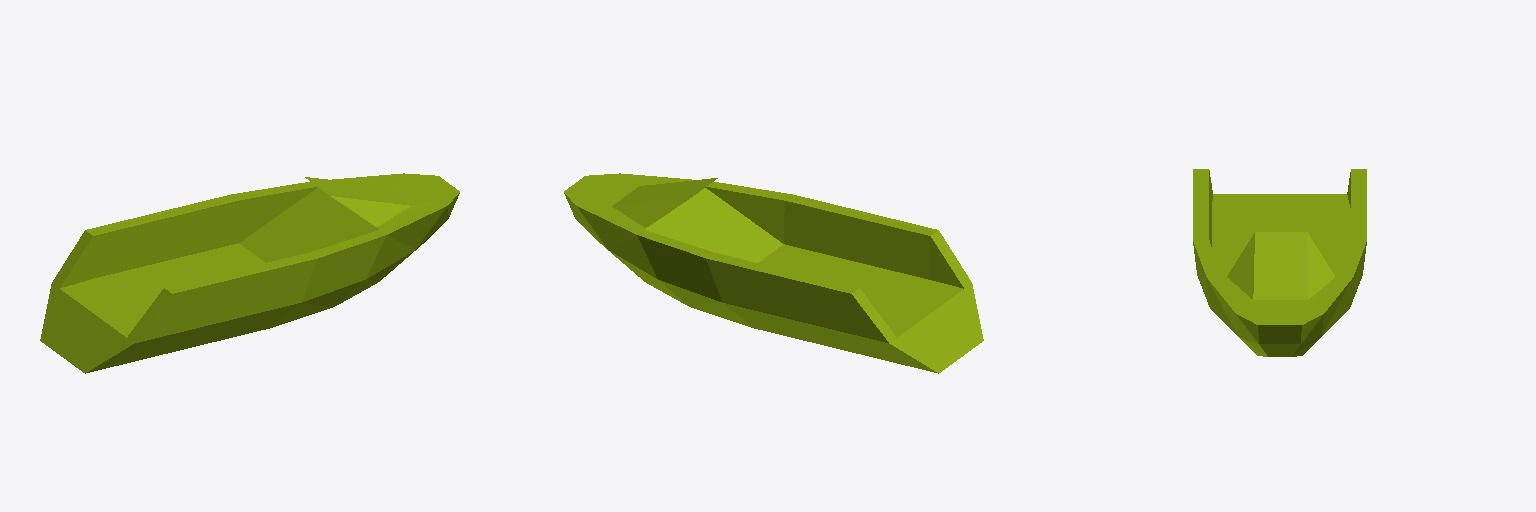
File: temp_boat.obj
3 renders of one model, left to right at view 1: azimuth 30°, elevation 25°; view 2: azimuth 150°, elevation 25°; view 3: azimuth 270°, elevation 25°, orthographic.
Visible parts, largest first — view 1: Box001; view 2: Box001; view 3: Box001.
Boxes of the visible parts, x1,y1,x2,y2 form: Box001: [40, 173, 459, 373]; Box001: [564, 173, 983, 373]; Box001: [1193, 169, 1366, 356].
Size of the model in its own units: 51.17 by 13.67 by 20.